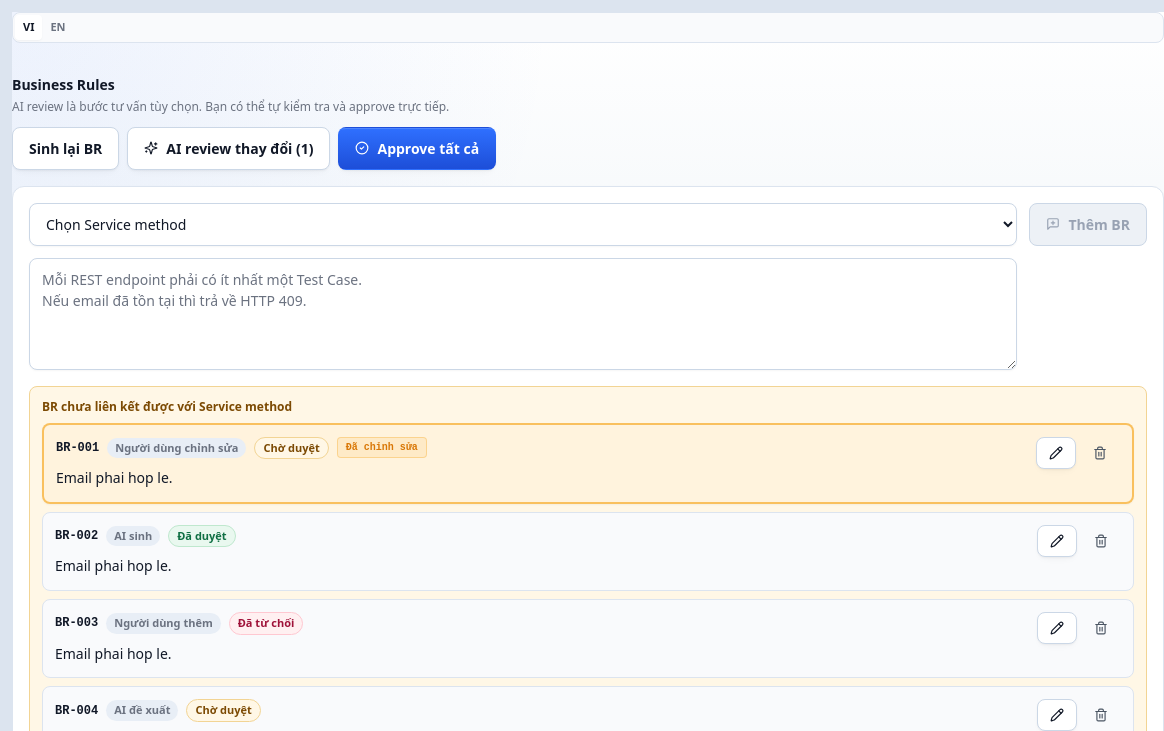
Test: BusinessRulesPanel › switches every rule source and review status tag with the system language
Expected: the text "Người dùng chỉnh sửa" is shown, [107,438,246,458]
Expected: the text "AI sinh" is shown, [106,526,160,546]
Click the button "EN". click: (58, 27)
box: [42,15,74,40]
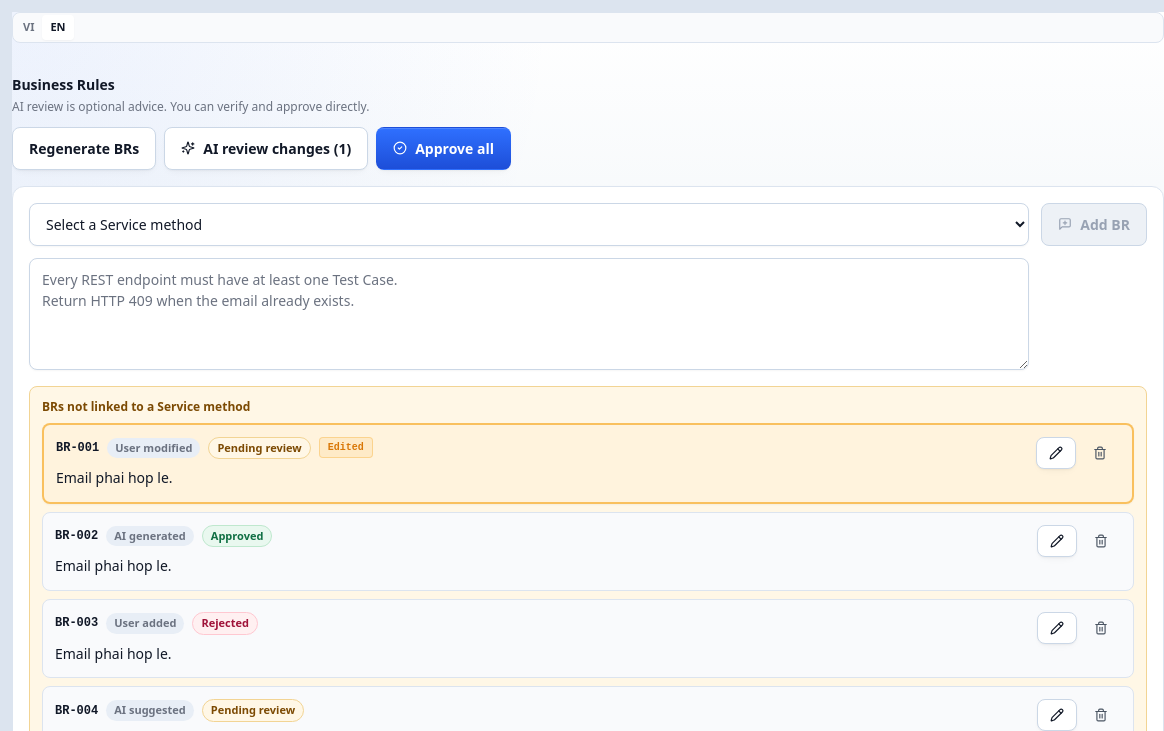
Result: the text "User modified" is shown at [107,438,200,458]
Result: the text "AI generated" is shown at [106,526,194,546]
Result: the text "User added" is shown at [106,613,184,634]
Click the button "VI". click: (29, 27)
box: [15,15,42,40]
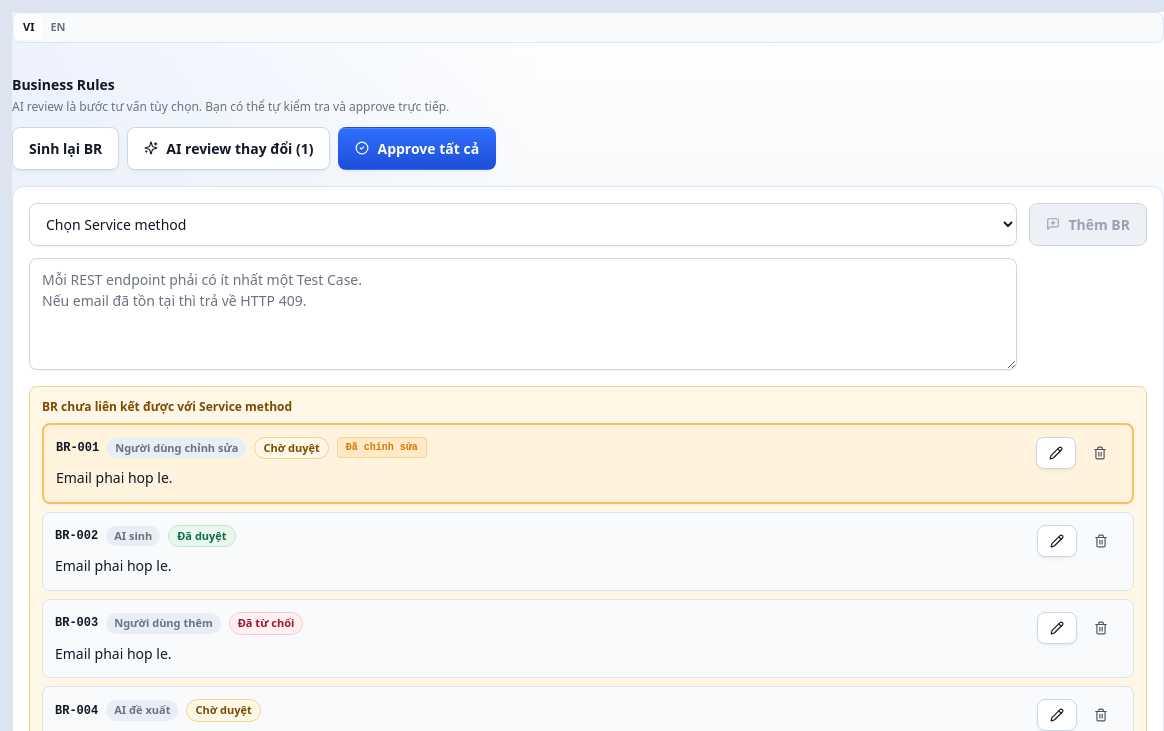
Result: the text "Người dùng chỉnh sửa" is shown at [107,438,246,458]
Result: the text "Đã chỉnh sửa" is shown at [337,437,427,458]
Result: the text "User modified" is gone
